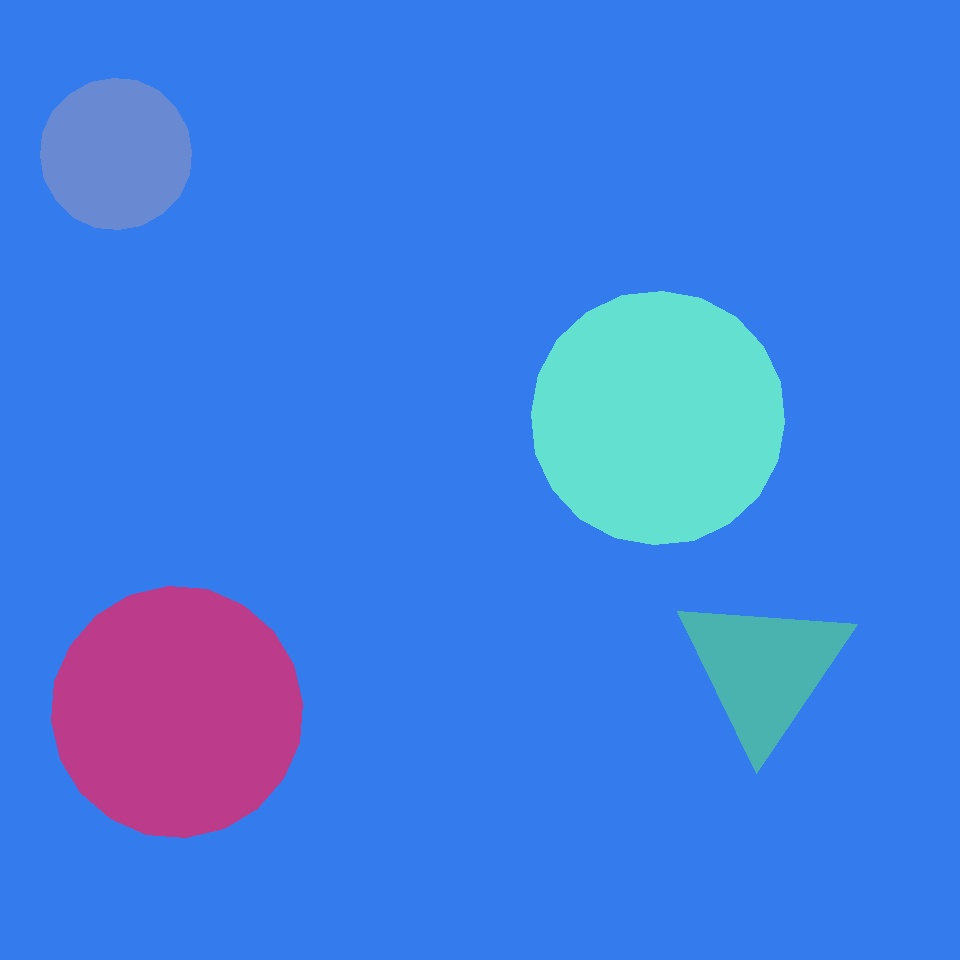circle: (59, 257, 333, 568), (674, 589, 854, 751)
square: (567, 108, 842, 383)
triangle: (532, 292, 784, 544), (690, 222, 942, 473), (52, 586, 302, 838), (600, 592, 794, 786), (40, 79, 192, 230), (769, 189, 882, 302)
